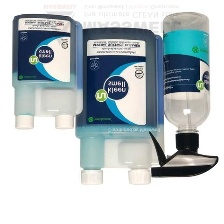cleaning_solution: (70, 25, 167, 188), (147, 9, 220, 180), (10, 10, 84, 133)
